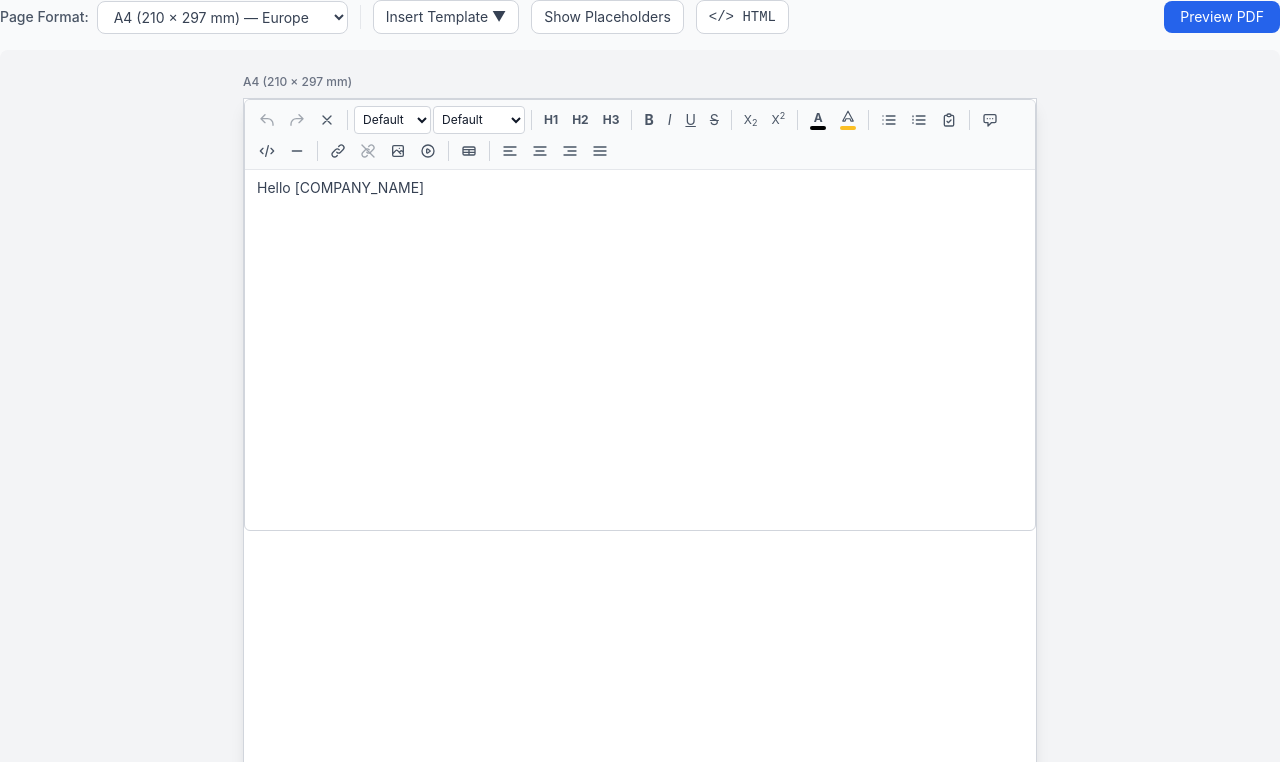
Test: InvoiceTemplateEditor › placeholder sidebar › shows placeholder sidebar when Show Placeholders is clicked
Click the button "Show Placeholders": (608, 17) [531,0,684,34]
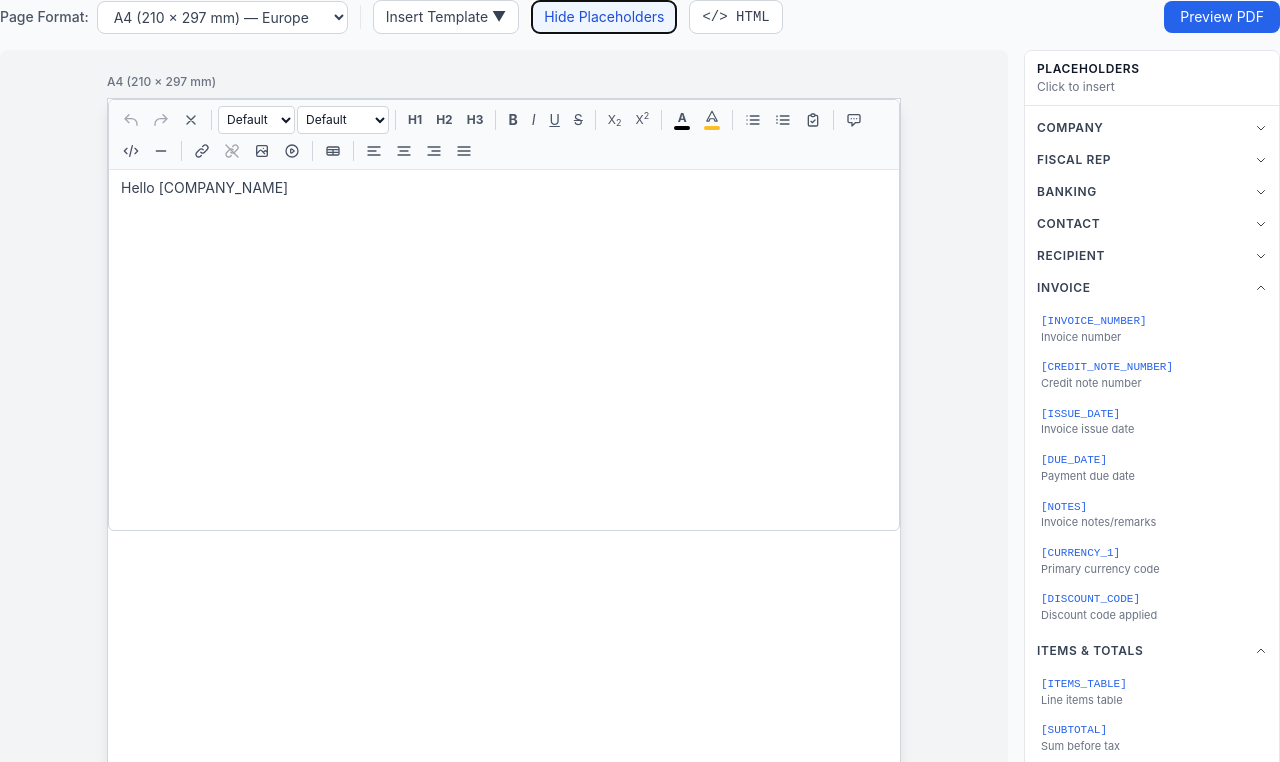
expect the heading "Placeholders" is shown: met, box [1037,61,1140,76]
expect the button "Hide Placeholders" is shown: met, box [531,0,678,34]
